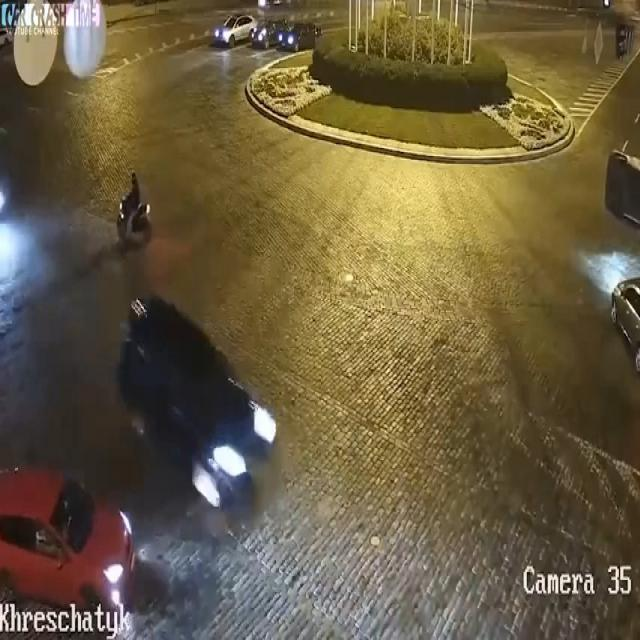Accident: (608, 115, 640, 254)
